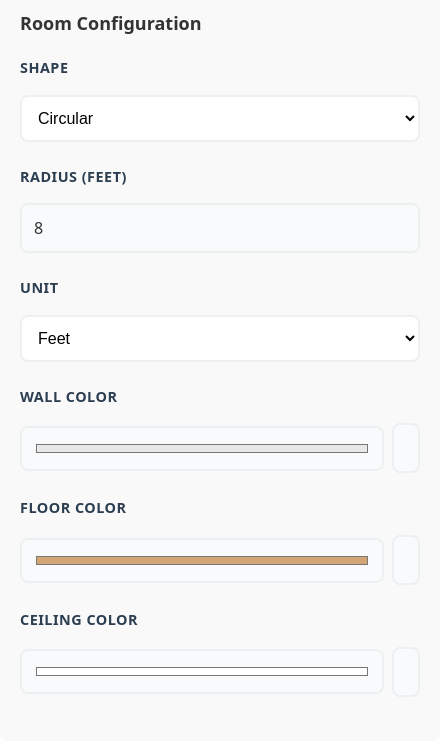
RoomConfigPanel › Dimension validation › displays error for invalid radius
This screenshot has width=443, height=756.
// Enter invalid radius
Replace the text in the number field labelled "Radius (feet)" with "0": (220, 228) [20,203,420,253]
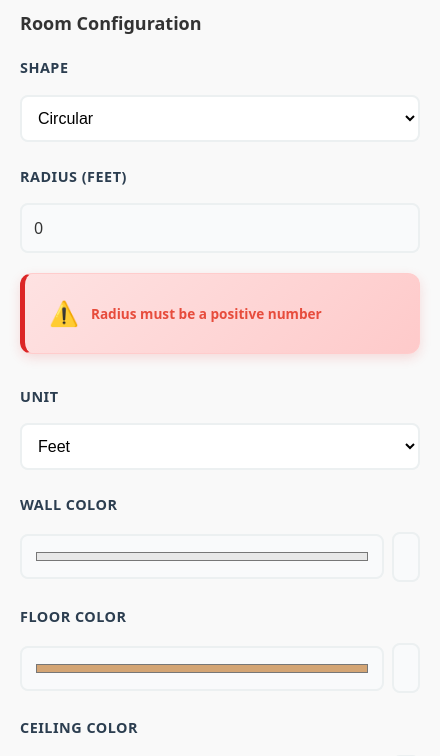
Check: the message reads "Radius must be a positive number", box [91,304,322,322]
